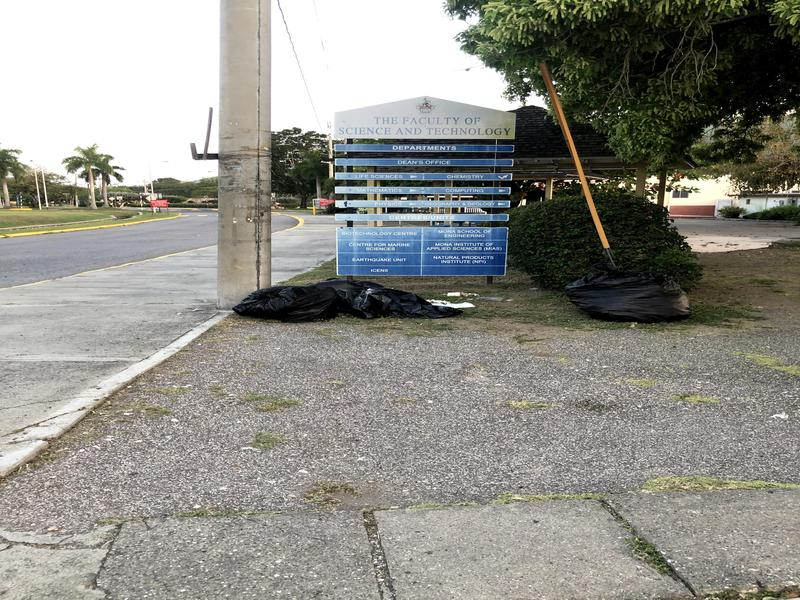18.0055634_-76.7484079_scitechsign: (323, 81, 528, 298)
